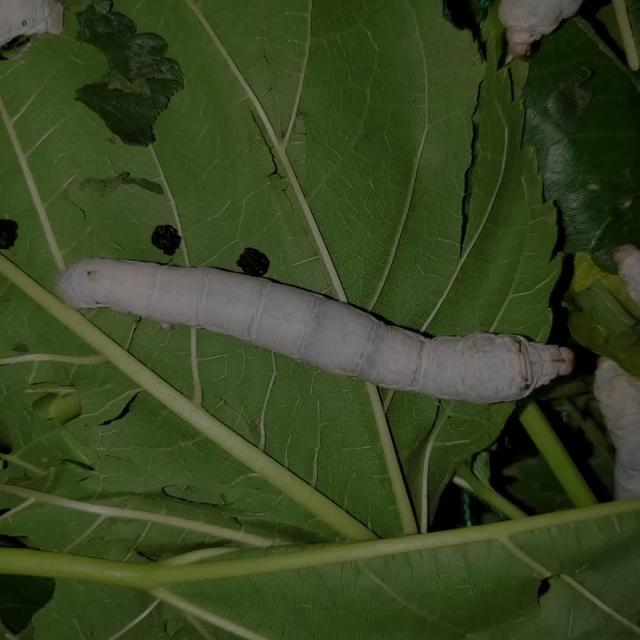Healthy: (25, 210, 608, 440)
